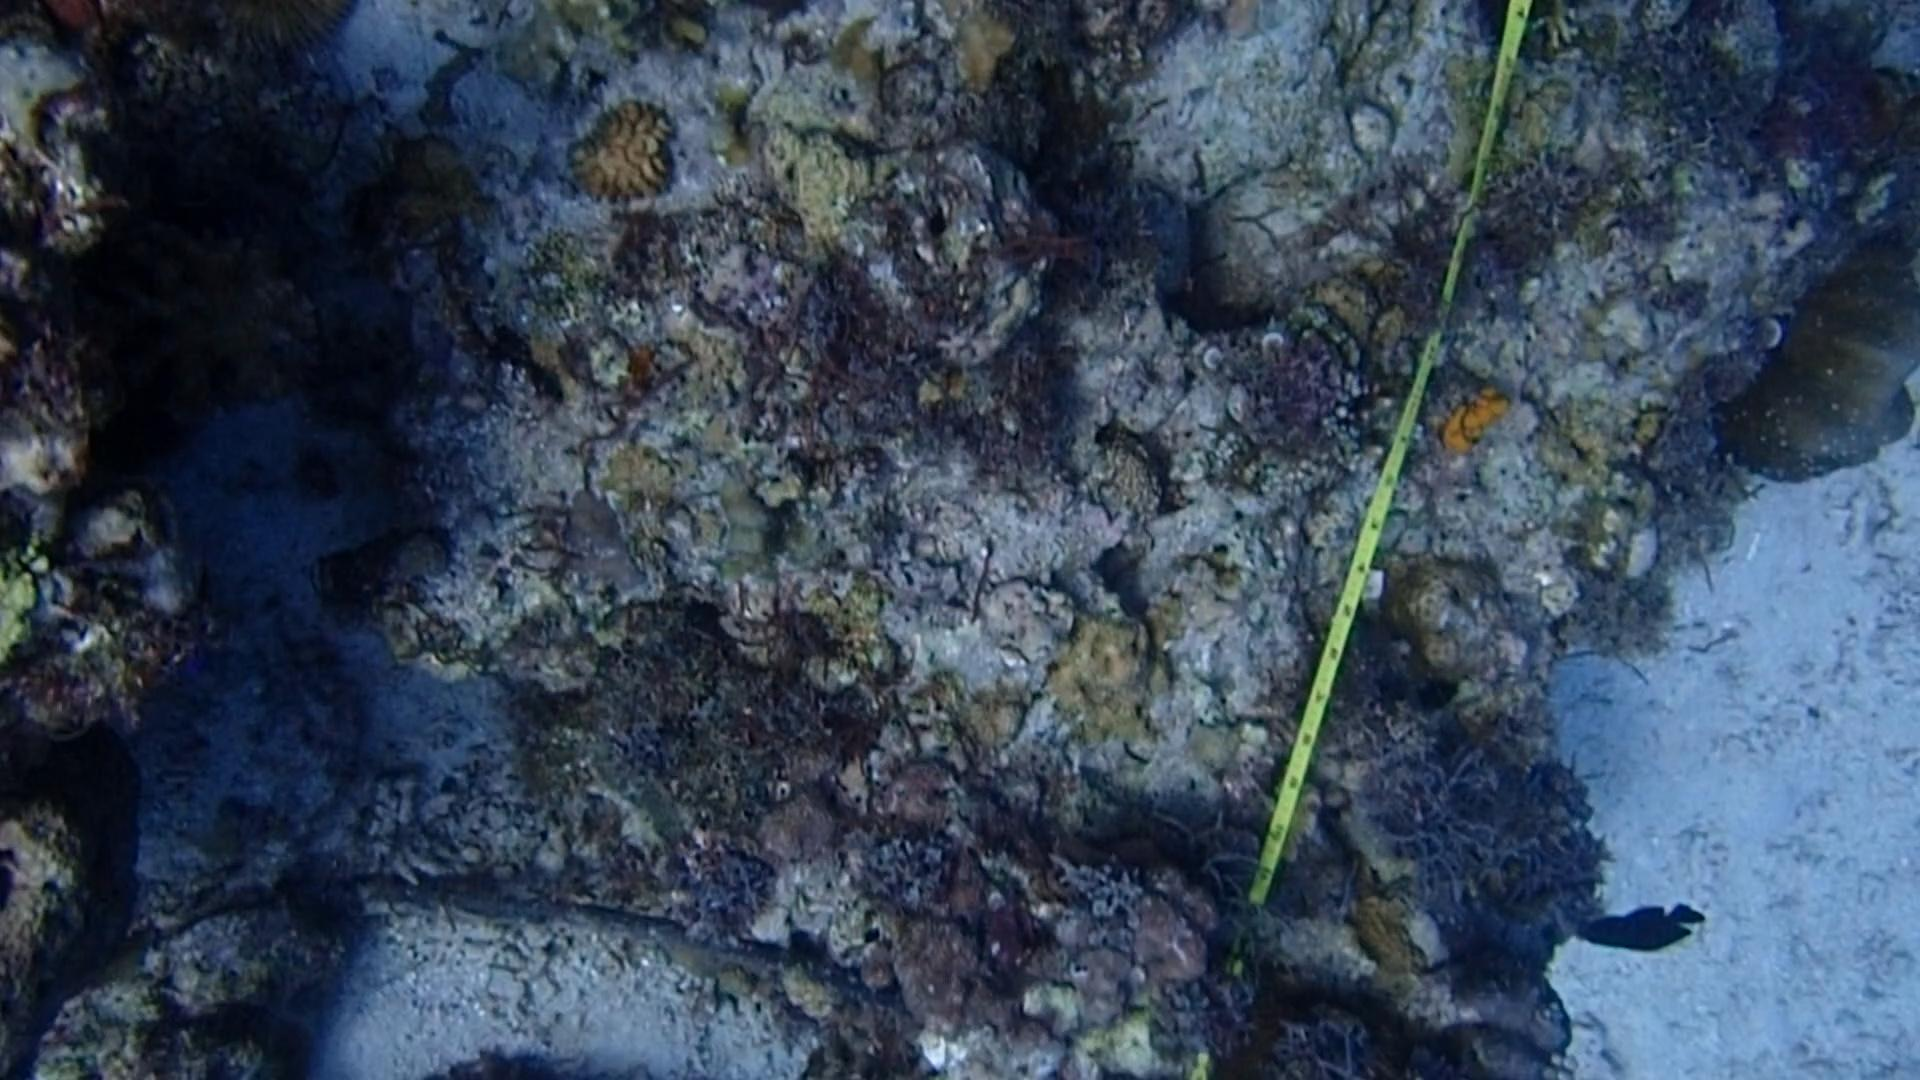Dark Fish: (1571, 885, 1712, 967)
